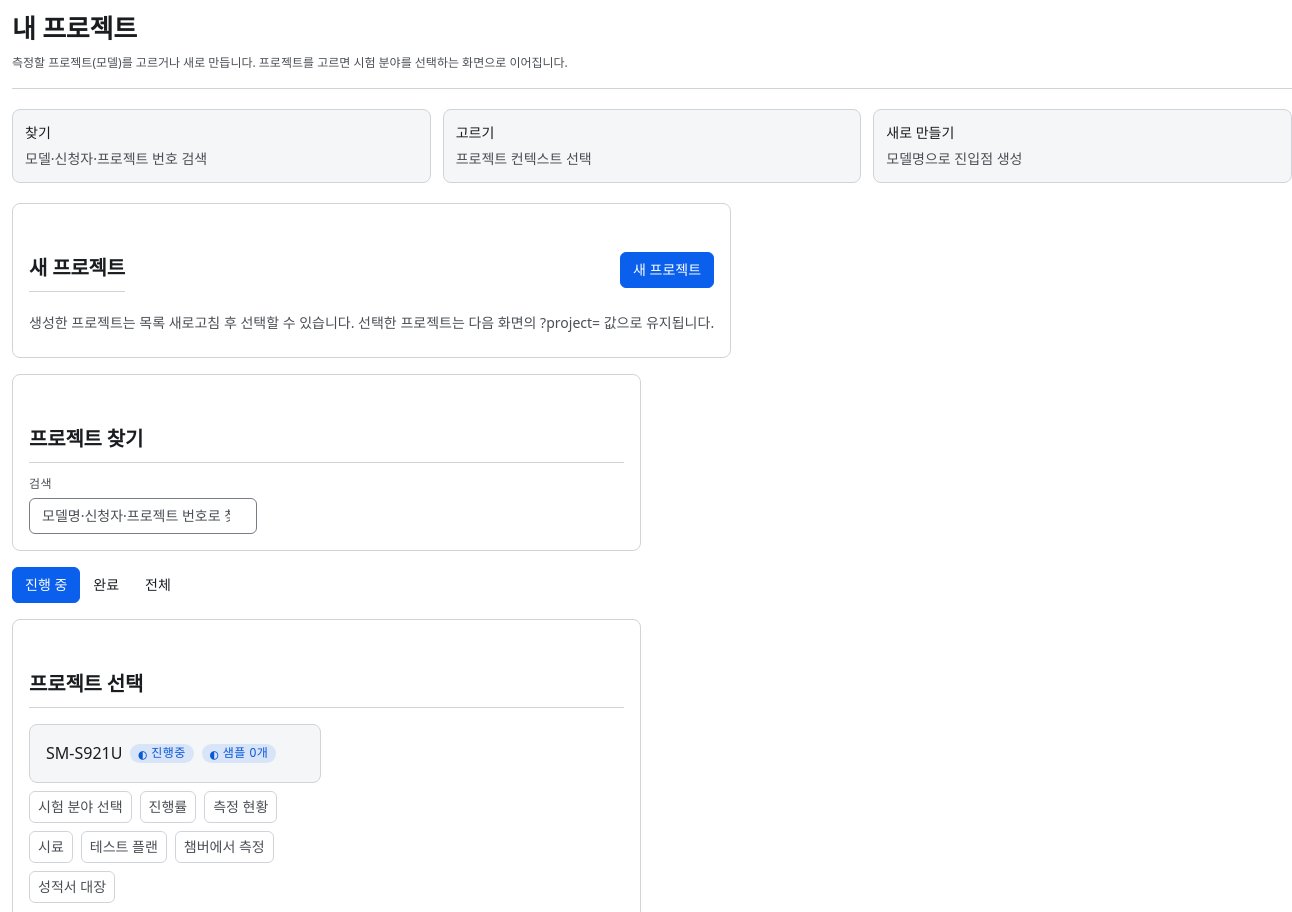
Test: MyProjectsRoute 서버측 검색 + keyset (W3-B M-B) › S9 — renders the SERVER-narrowed page verbatim (no client re-filter)
Expected: the text with test id "project-card-model" reads "SM-S921U", [46,742,122,764]
Type "globex" into the search field with test id "project-search" at (143, 516), box [29,498,257,534]
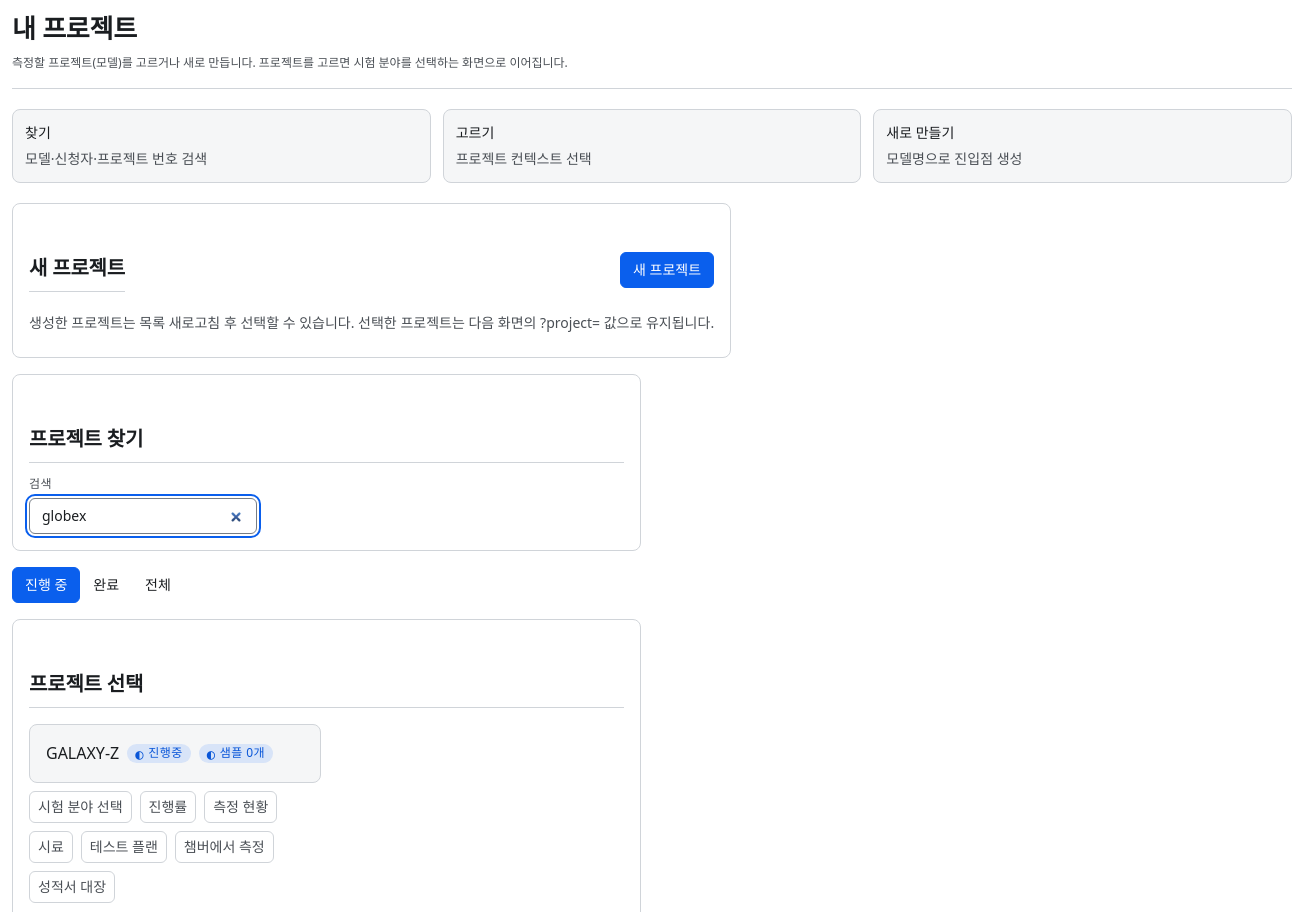
Now the text with test id "project-card-model" reads "GALAXY-Z", box [46,742,119,764]
